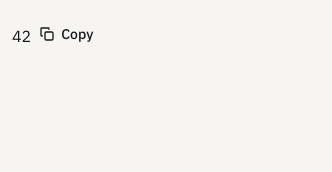
Test: CopyButton › selects the value when there is no clipboard
Click the button "Copy" at (66, 34), box [31, 12, 101, 56]
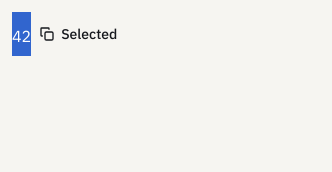
Check: the button "Selected" is shown, box [31, 12, 125, 56]
